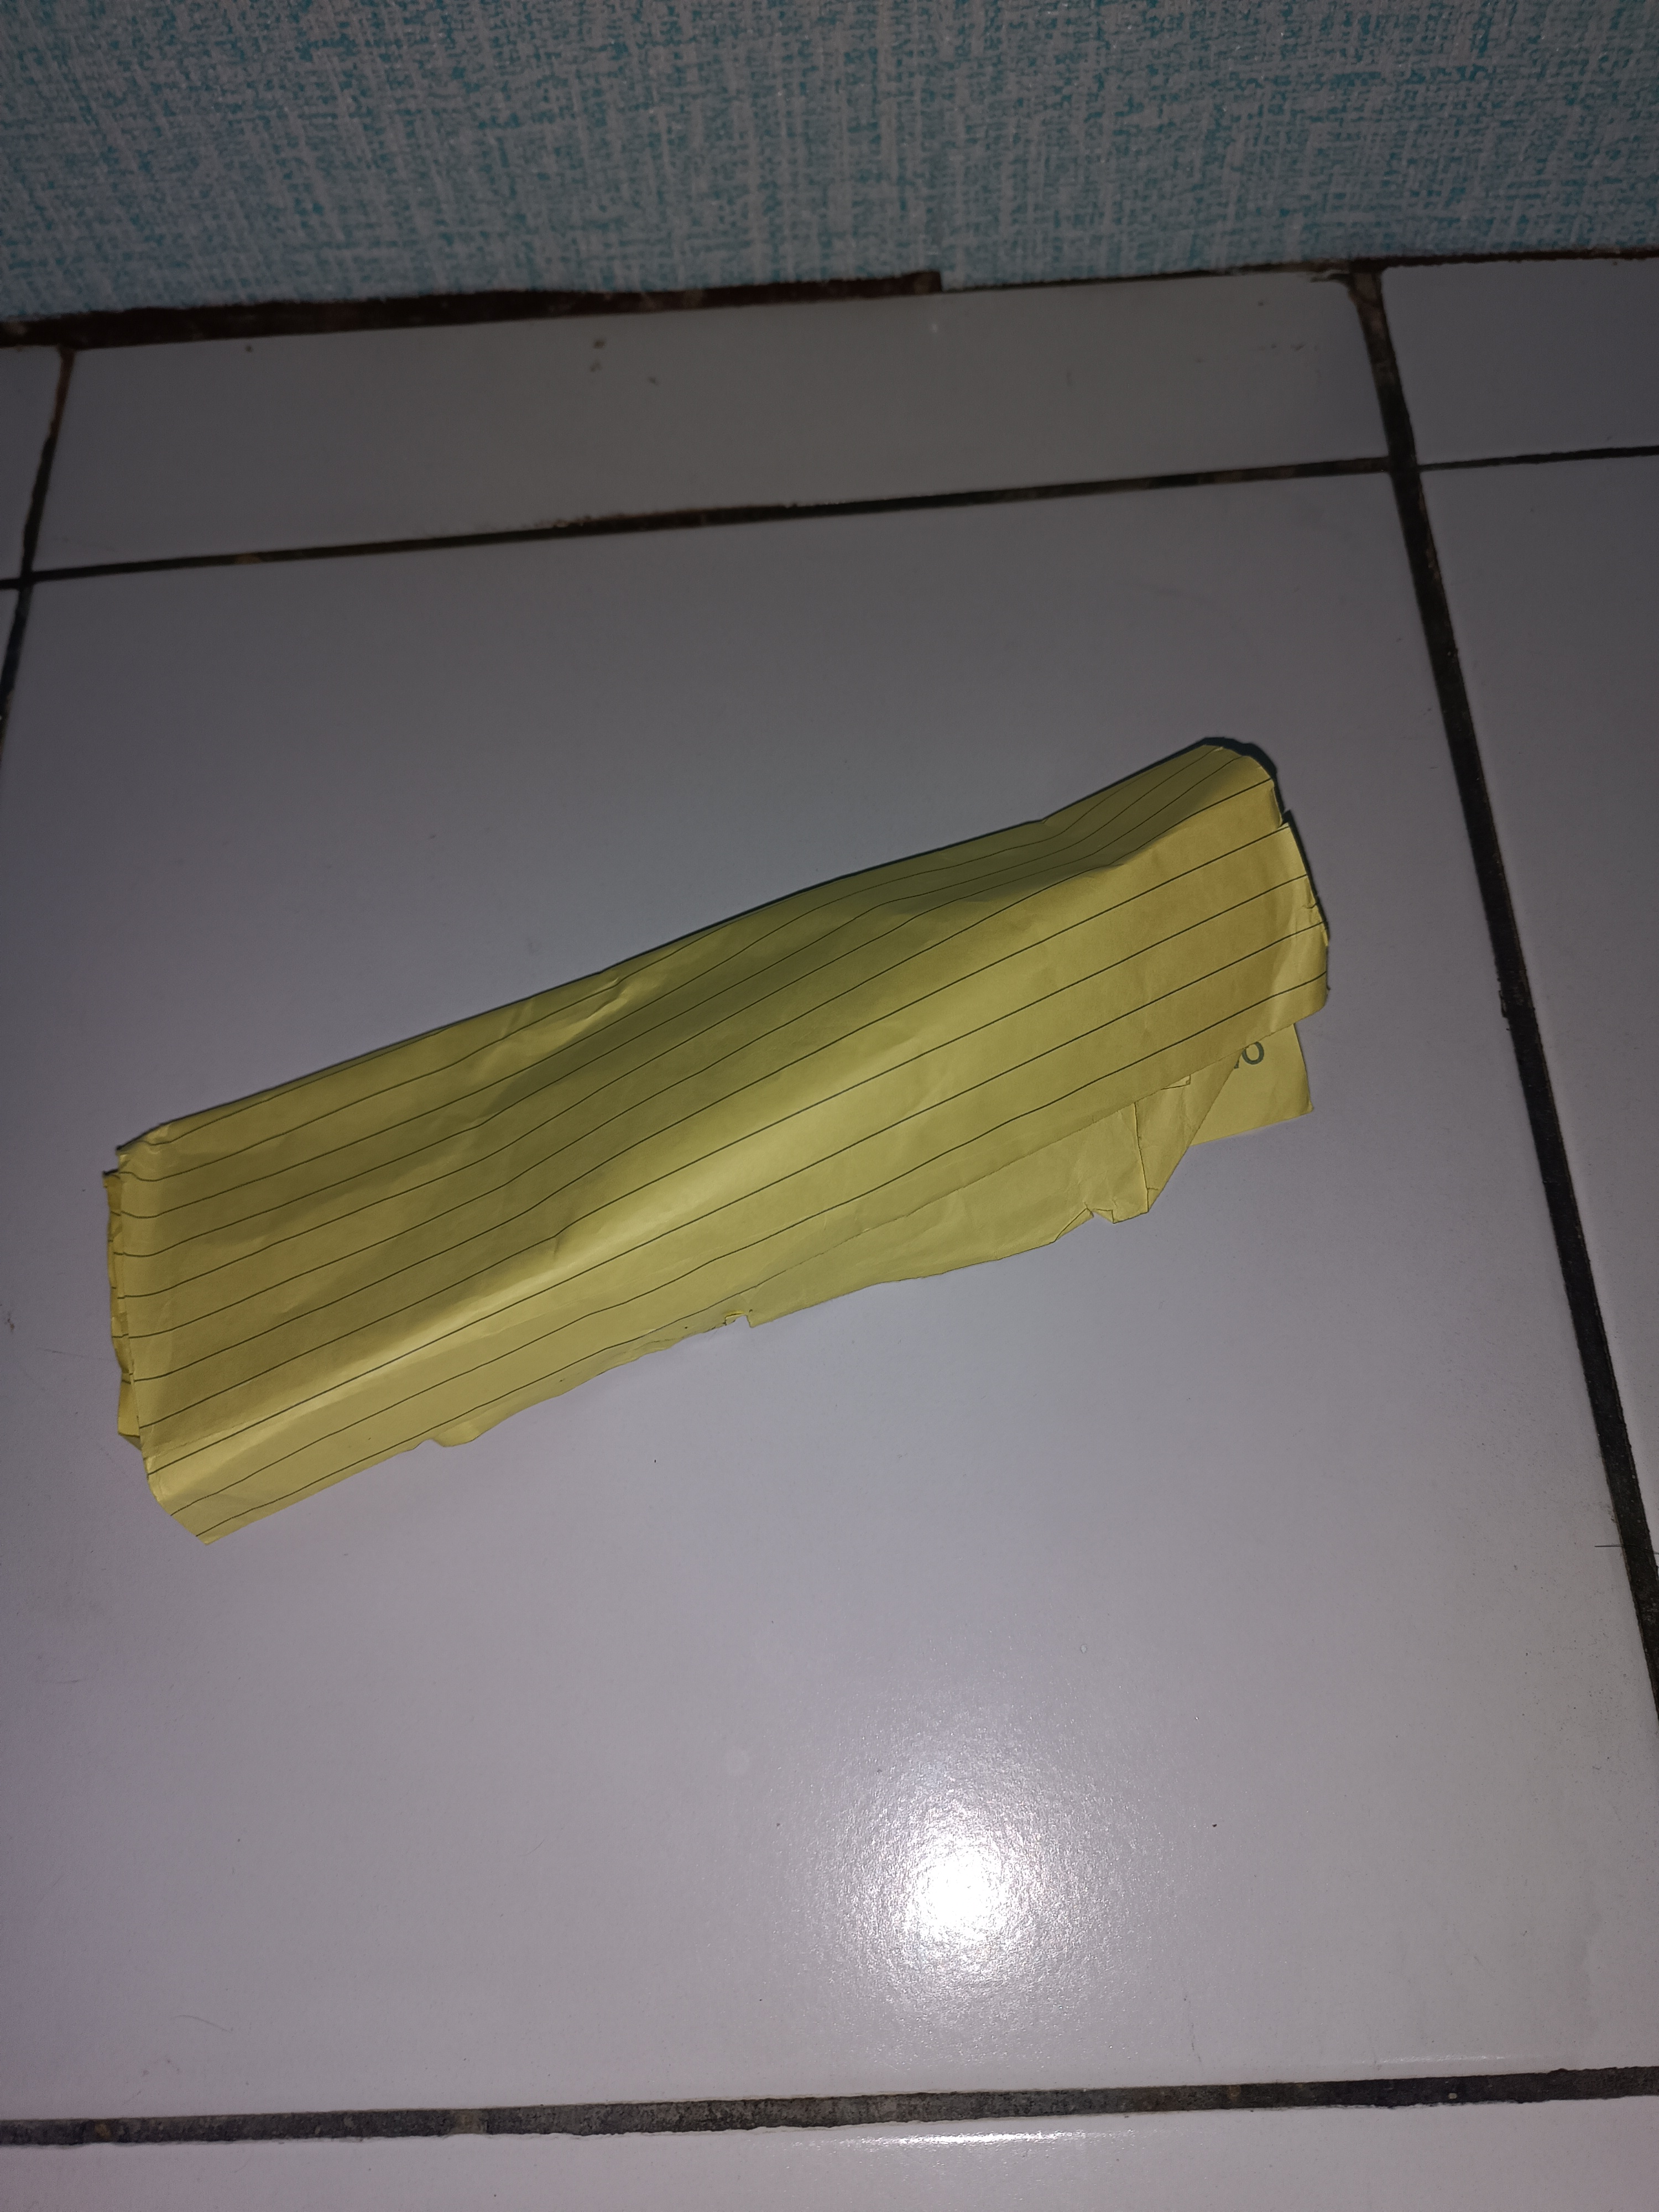Paper: (110, 604, 1408, 1566)
